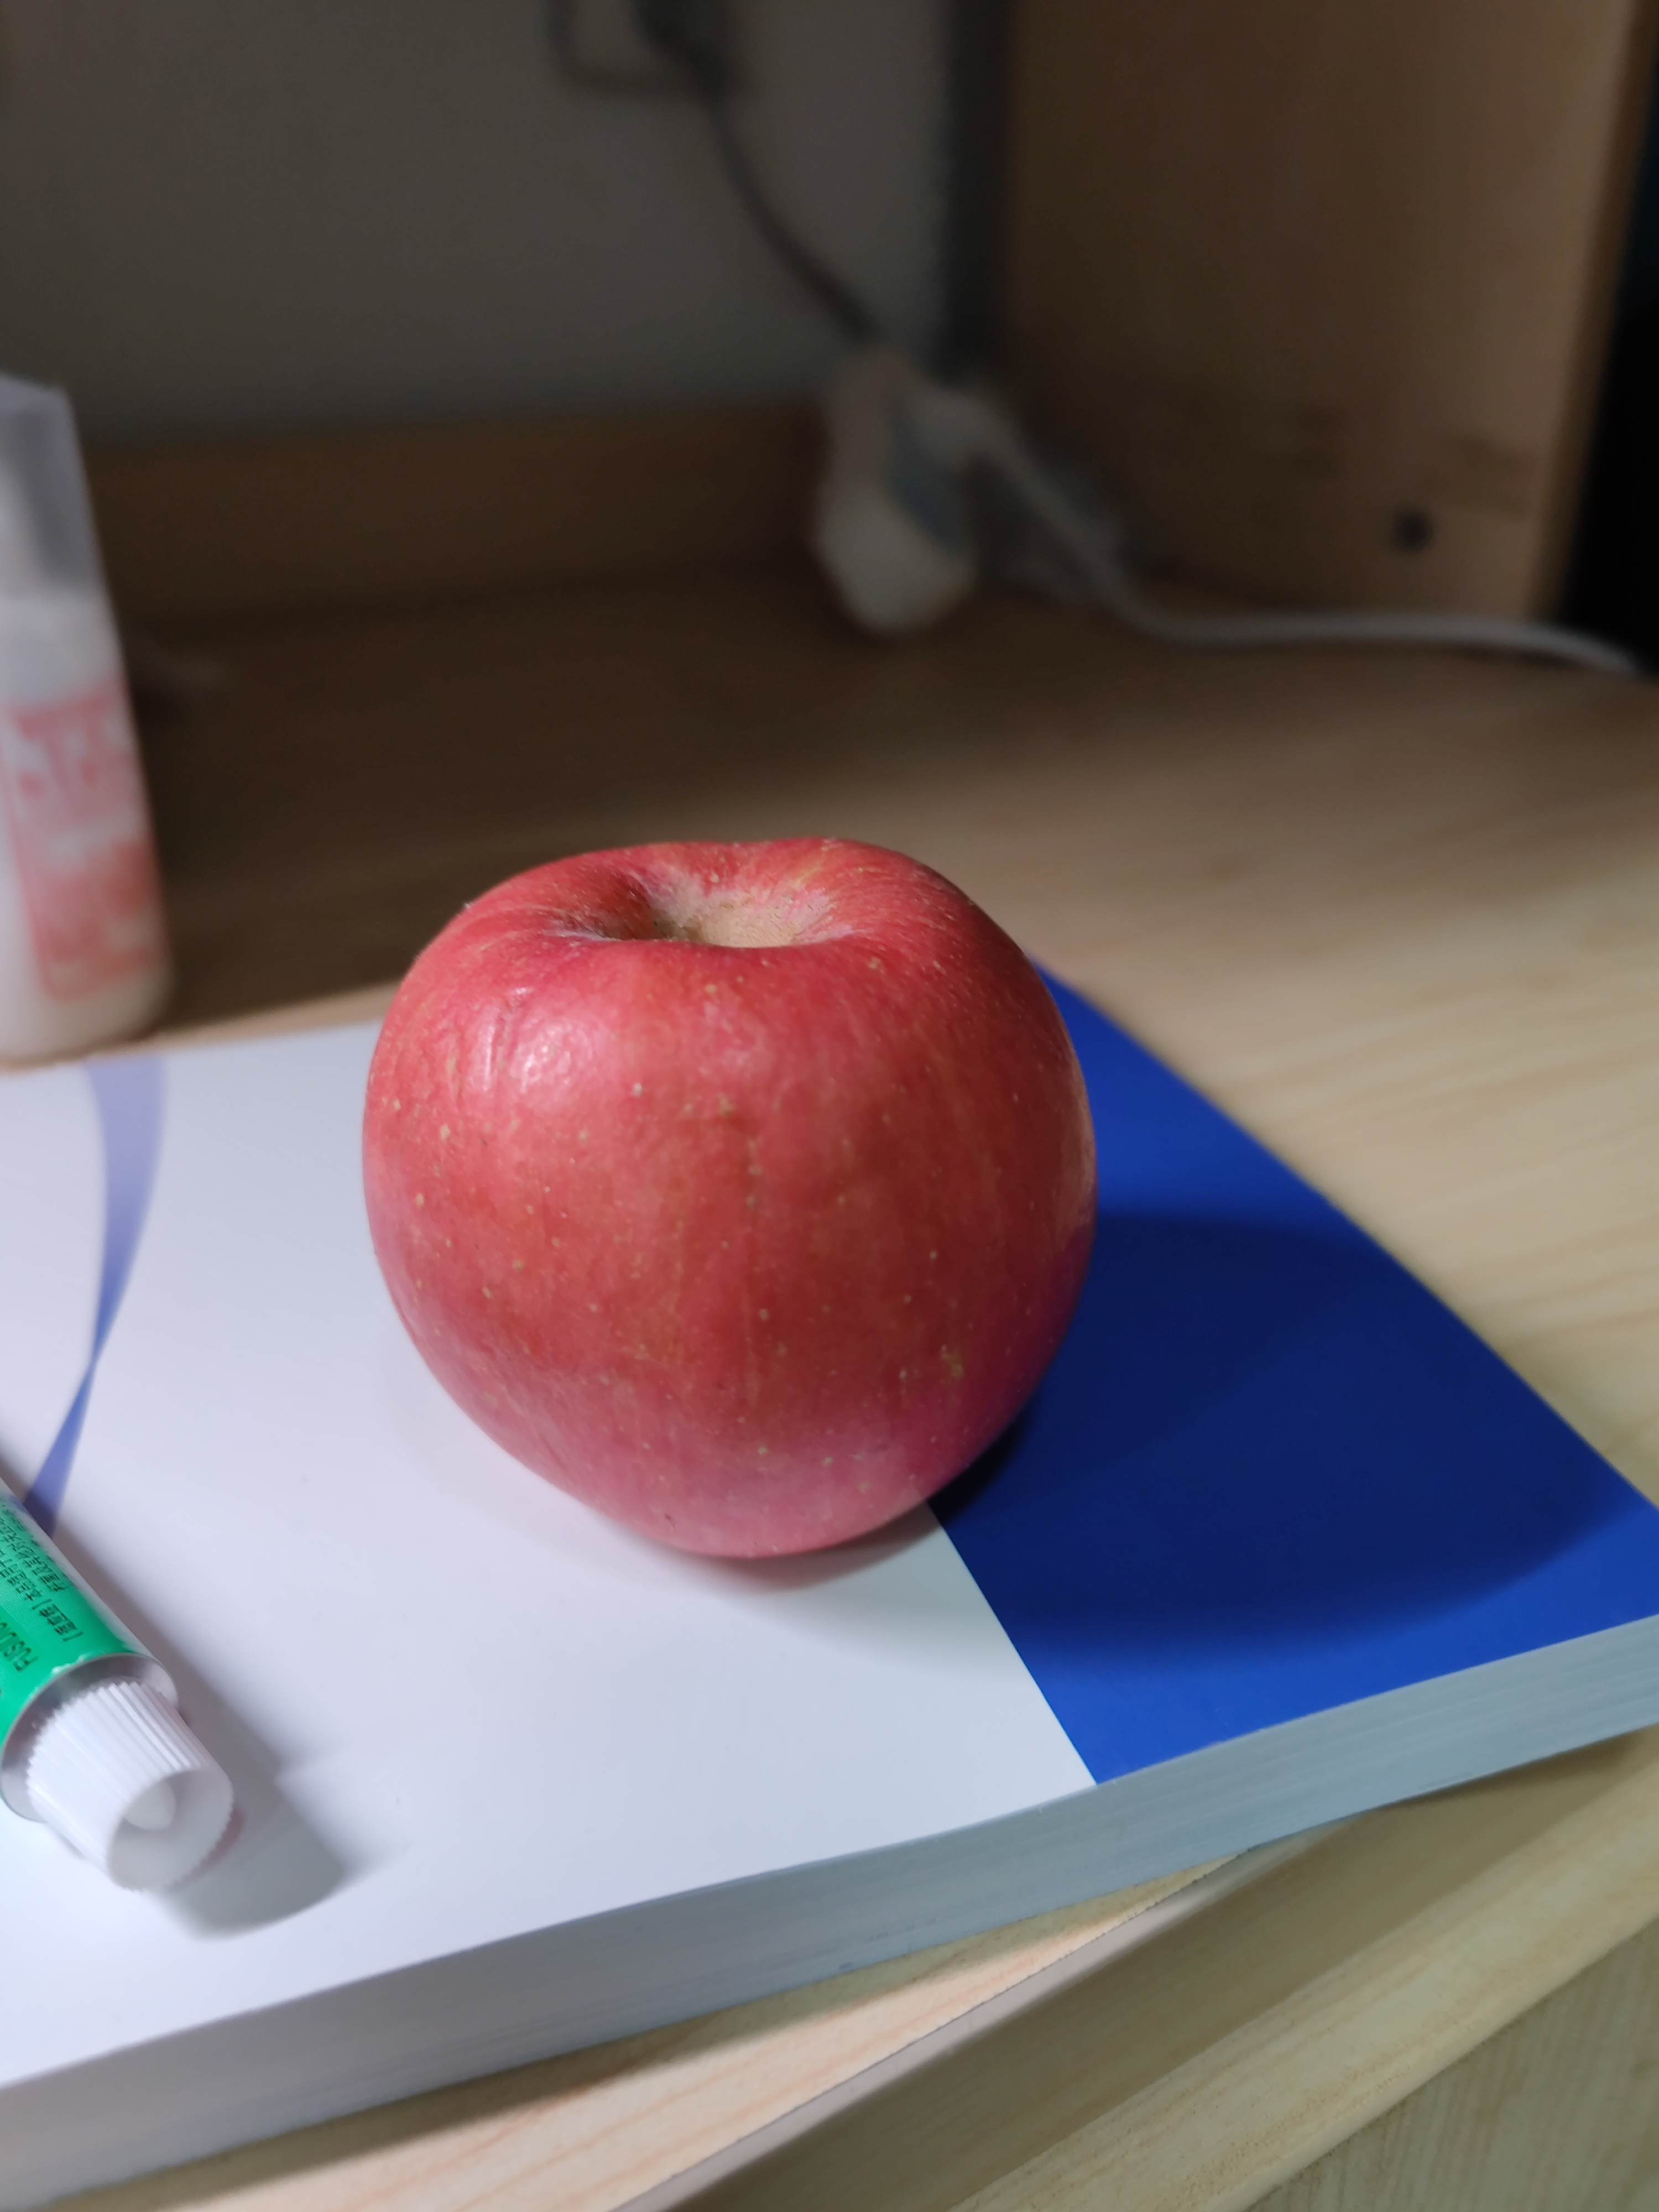apple: (352, 827, 1077, 1566)
